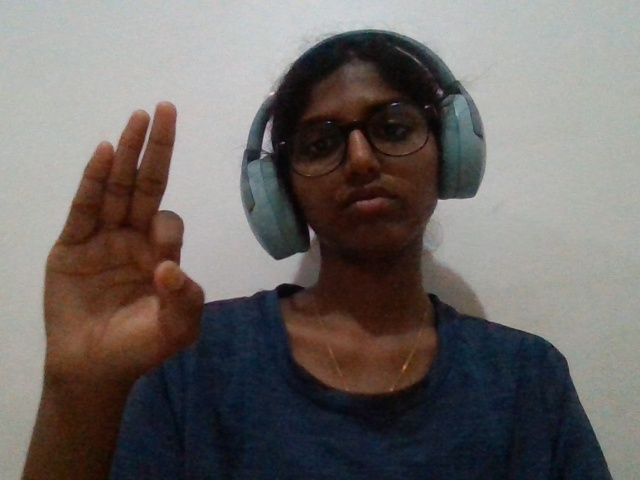F: (18, 85, 223, 480)
